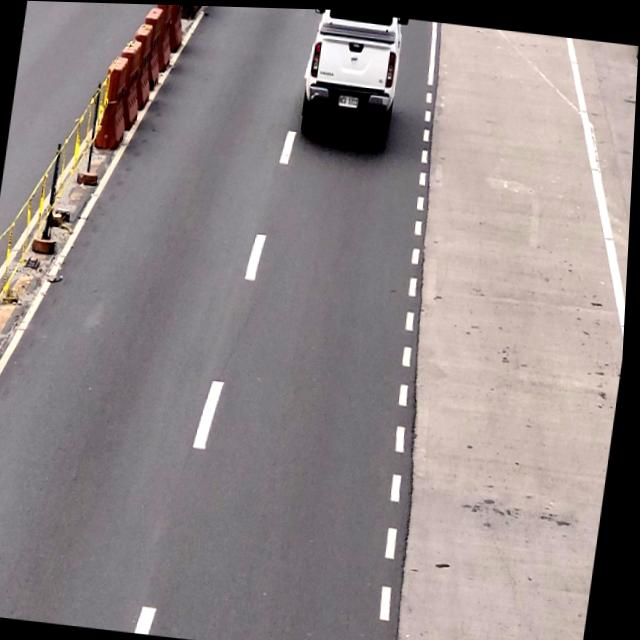Car: (296, 7, 407, 143)
License-Plate: (337, 92, 360, 107)
